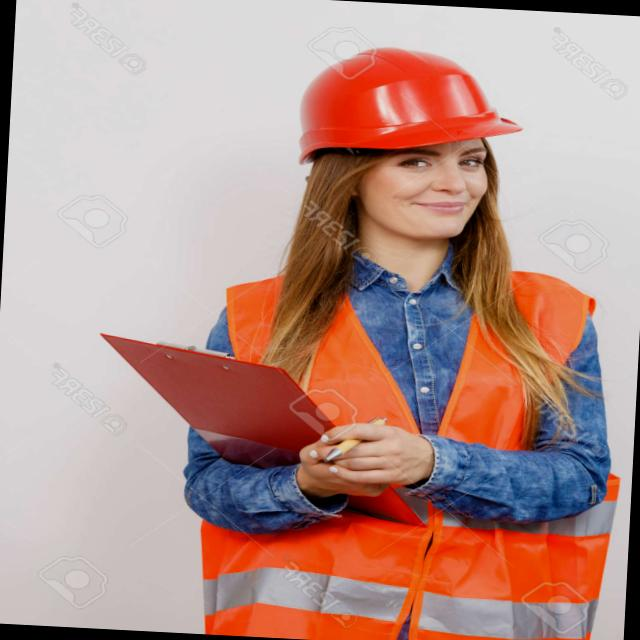helmet: (278, 32, 544, 182)
no-goggles: (336, 122, 518, 193)
vest: (178, 236, 621, 640)
